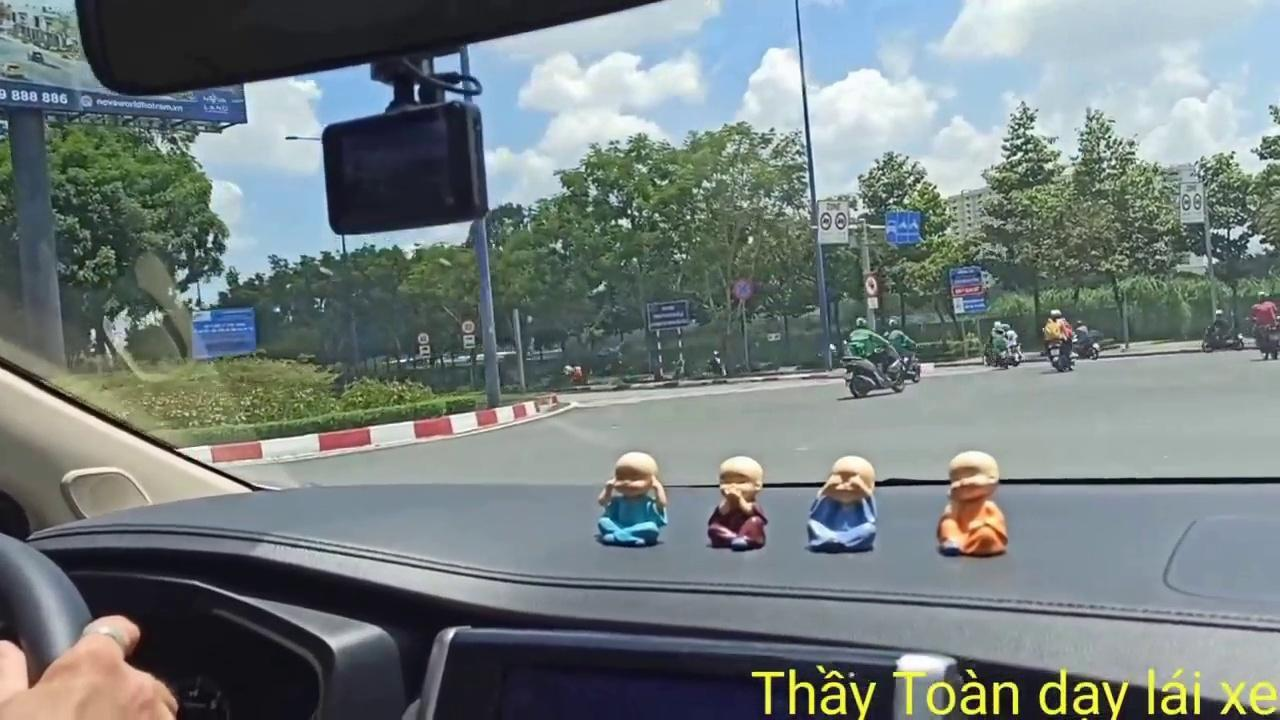Biển phụ: (463, 335, 476, 350), (419, 346, 431, 358)
Cấm cac phương tiện hoạt động trong khung giờ cố định: (817, 198, 850, 246)
Cấm dừng - Cấm đỗ: (732, 276, 754, 300)
Cấm xe máy: (864, 275, 878, 296)
GIơi hạn tốc độ 60Km/h: (417, 331, 430, 345)
Giới hạn tốc độ 80Km/h: (462, 319, 476, 334)
Khác: (190, 308, 254, 360), (950, 266, 990, 316)
Làn đường cho từng xe: (884, 210, 922, 245)
